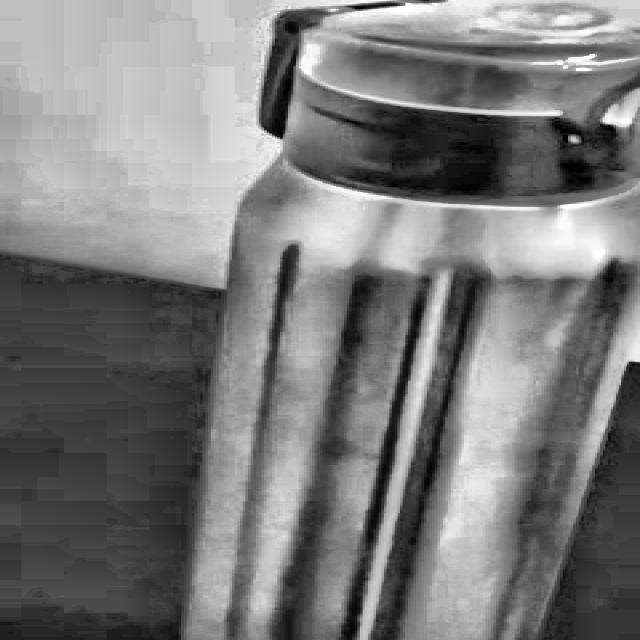bottle: (174, 0, 640, 640)
